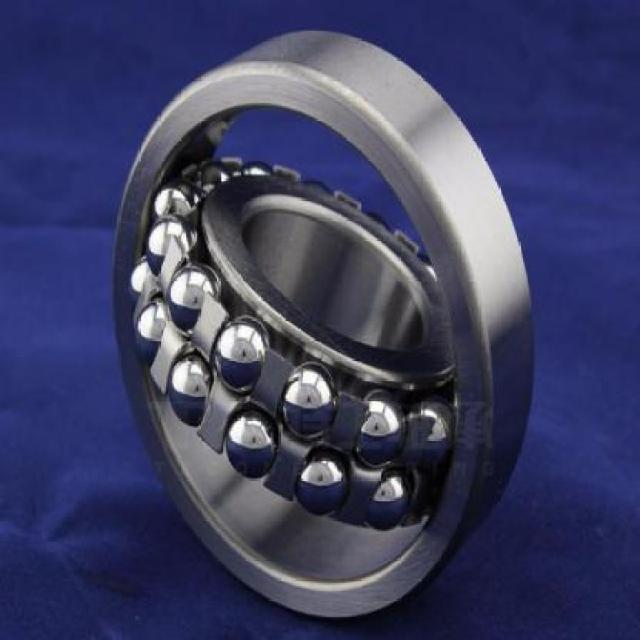Bearing: (108, 28, 539, 623)
